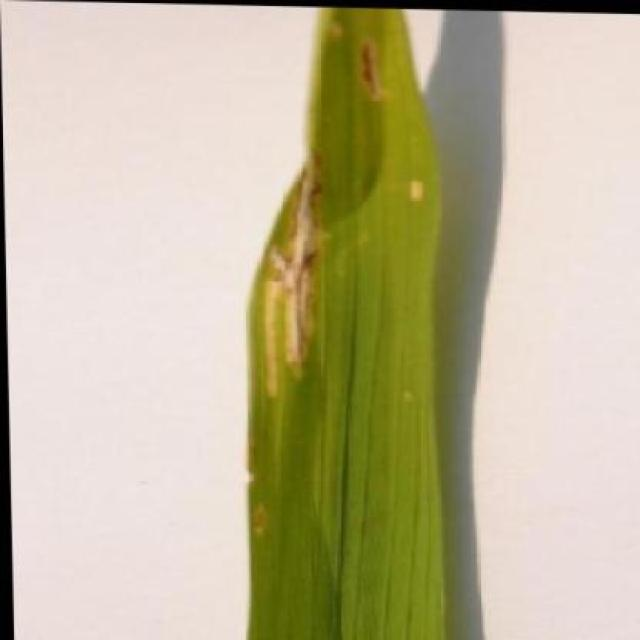Brown_Spot: (228, 3, 454, 640)
